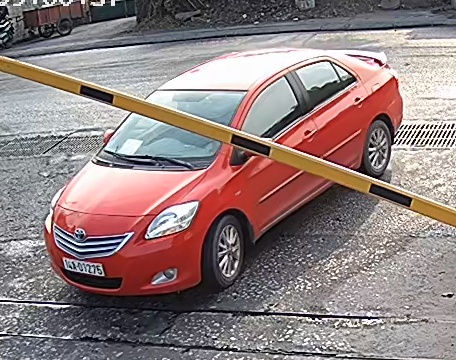vehicle plate: (58, 253, 104, 279)
